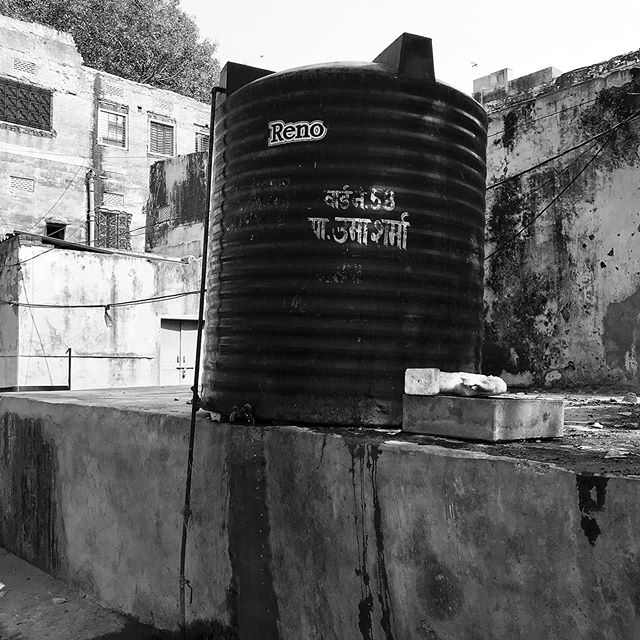building: (3, 15, 221, 246)
water tank: (198, 50, 479, 426)
